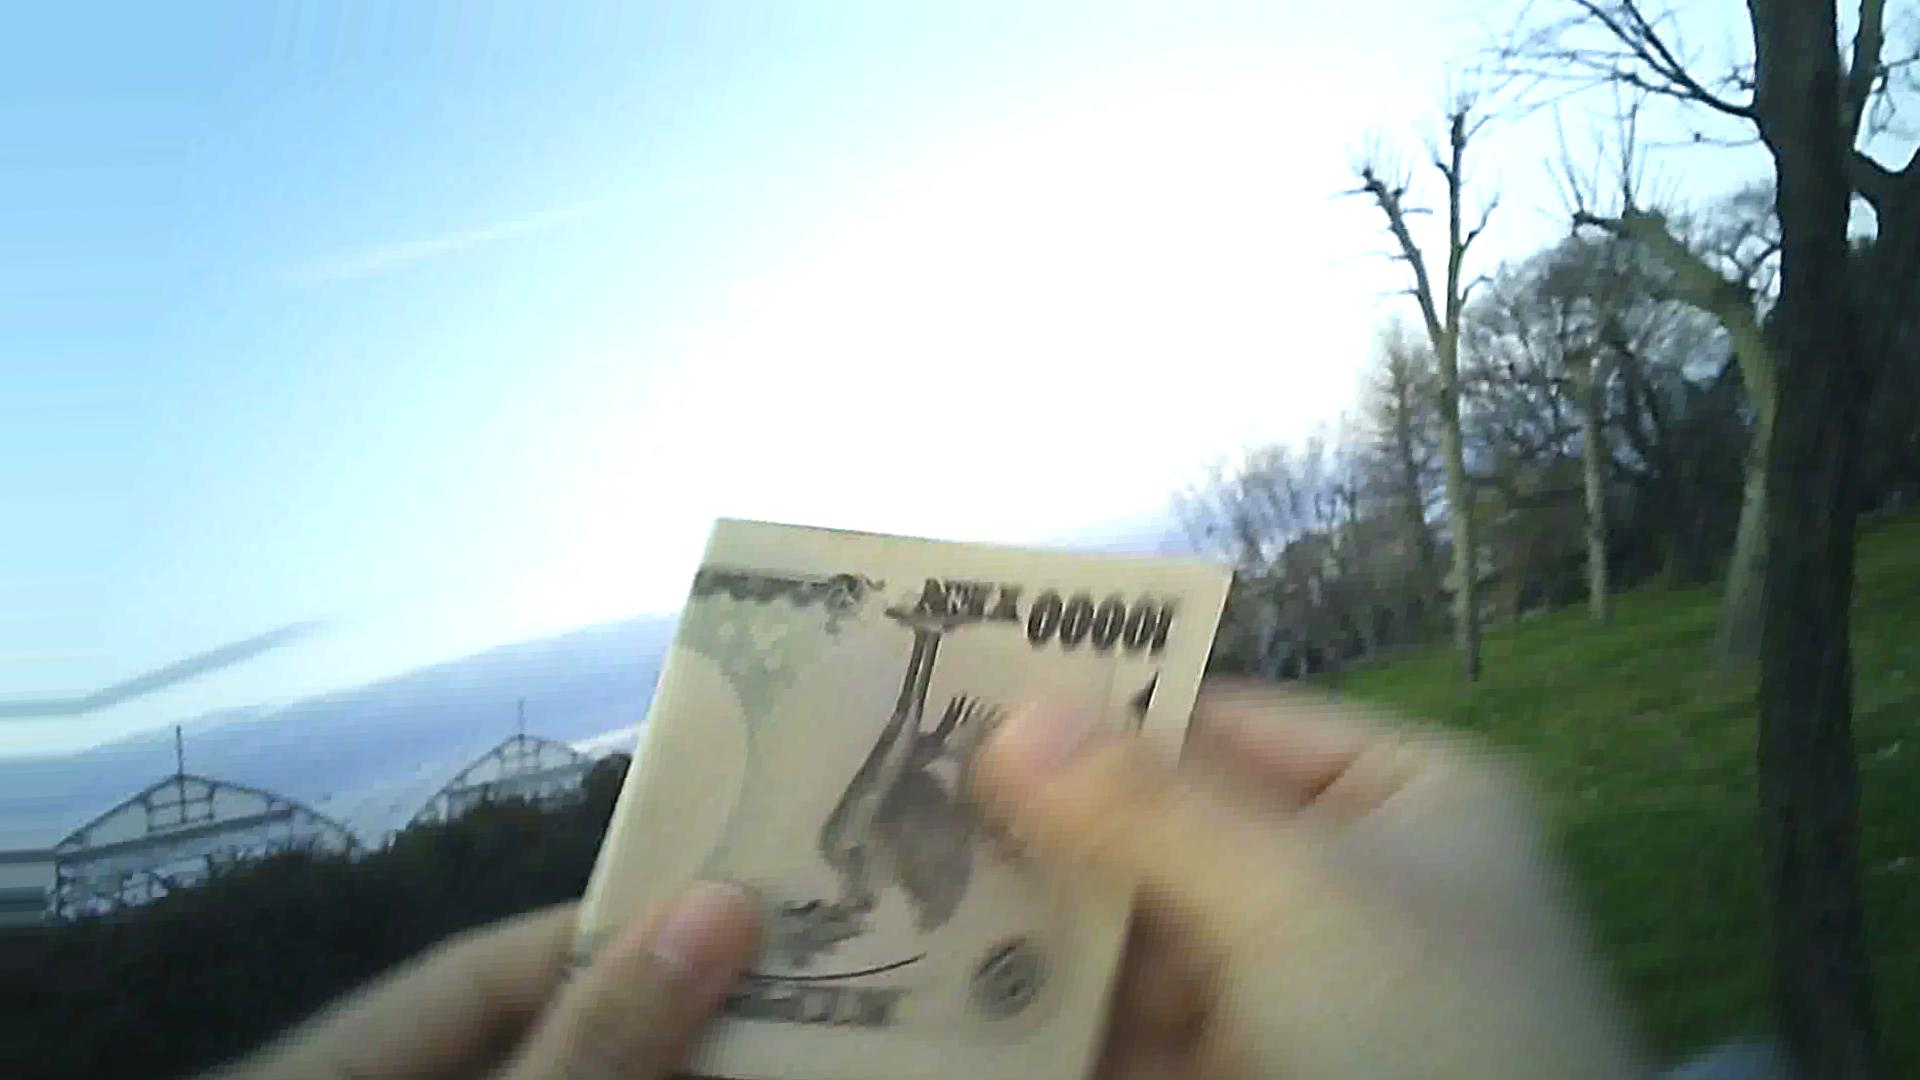10,000 Yen: (570, 497, 1211, 1054)
